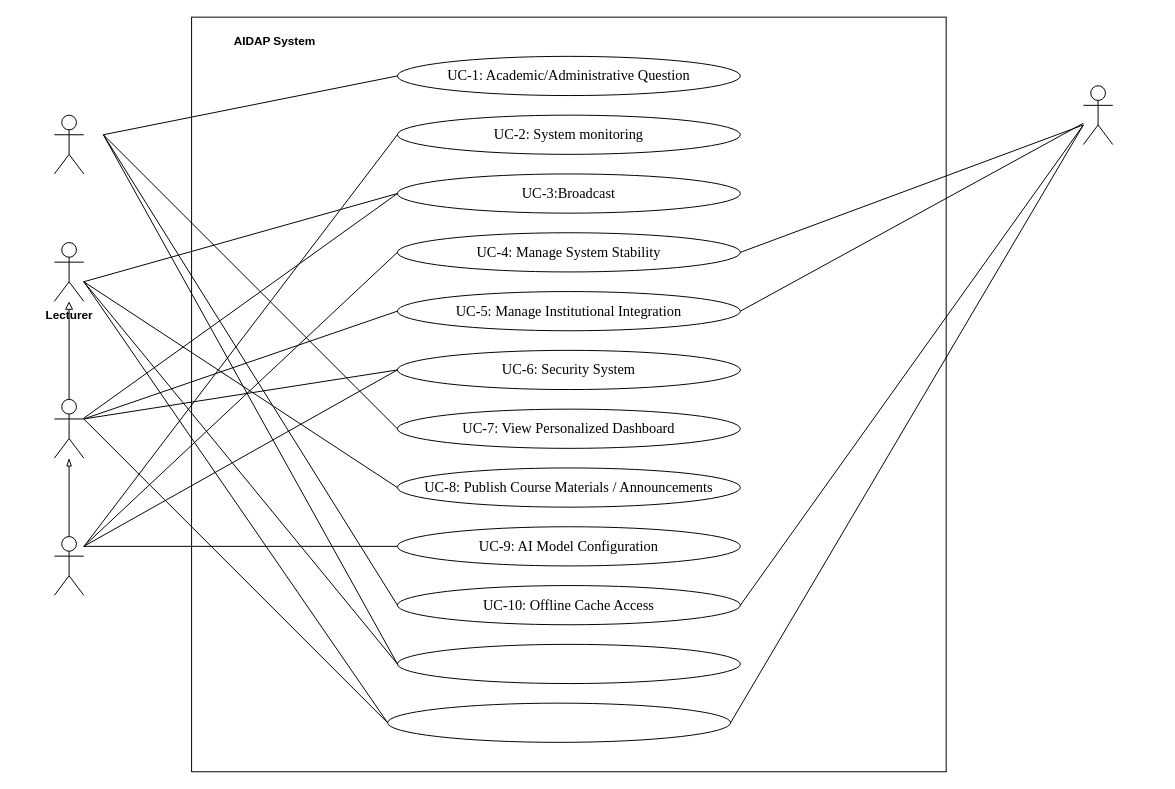
The diagram is 1175 pixels wide and 789 high, and some of its shapes have lost their labels. Each missing label, with the centre of its shape:
"Administration" belongs at pixel 68 428.
"Data Source Systems" belongs at pixel 1097 115.
"Student" belongs at pixel 68 144.
"System Maintainer" belongs at pixel 68 565.
"UC-11: Notification Management" belongs at pixel 568 663.
"UC-12: Analytics Reporting" belongs at pixel 559 722.
